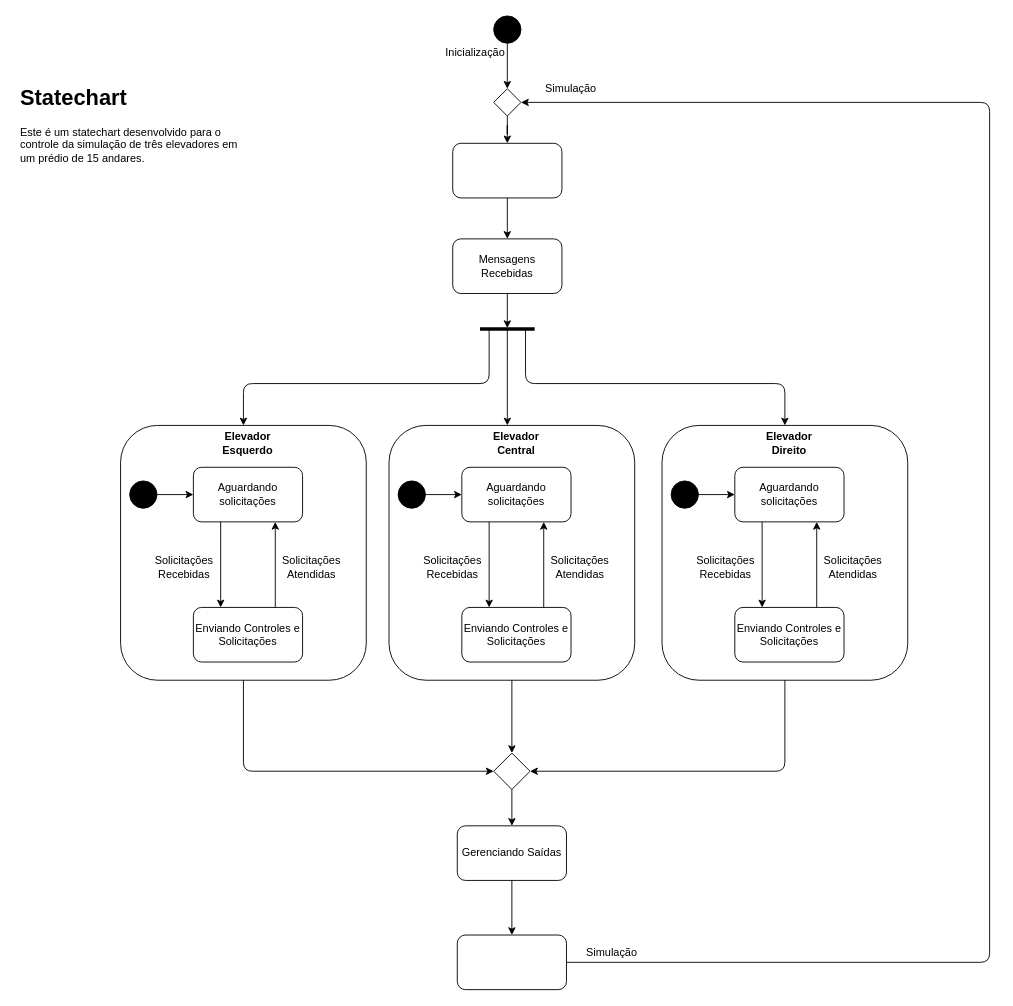
This 1013x1006 diagram has some shape labels left out. Each missing label, with the centre of its shape:
"Rx UART" belongs at (507,170).
"Tx UART" belongs at (511,962).
